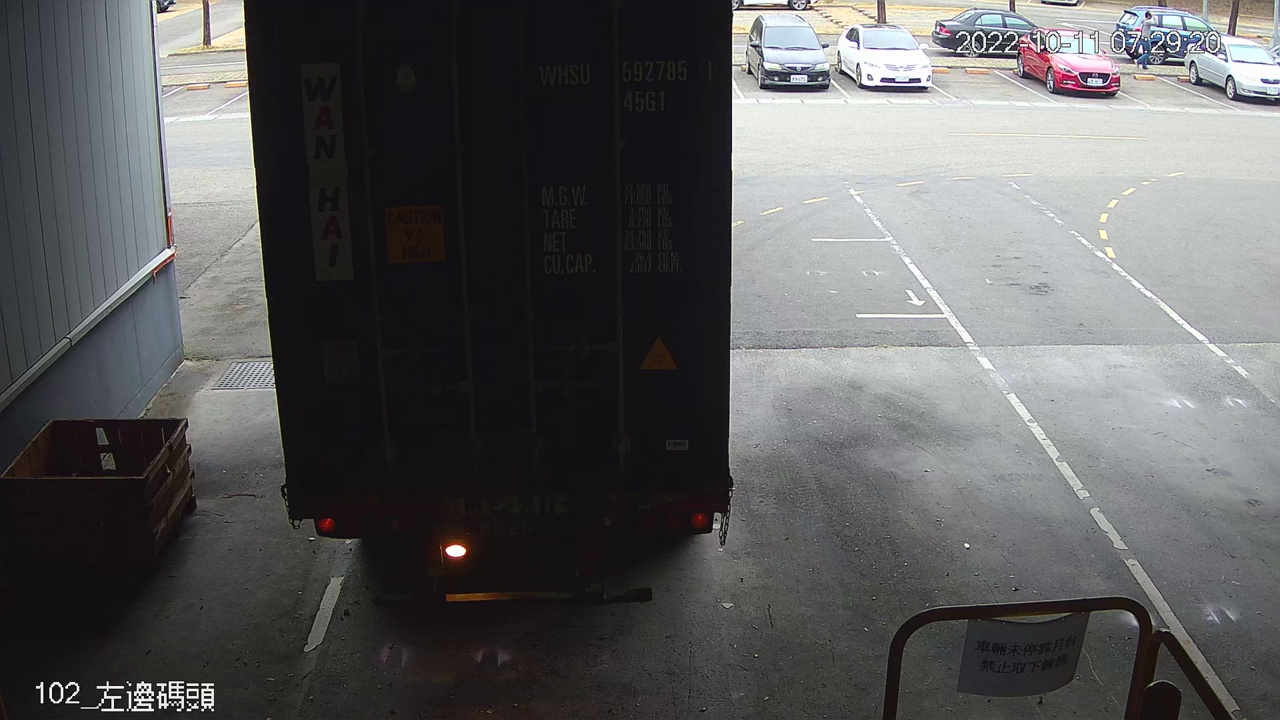container: (532, 53, 721, 122)
